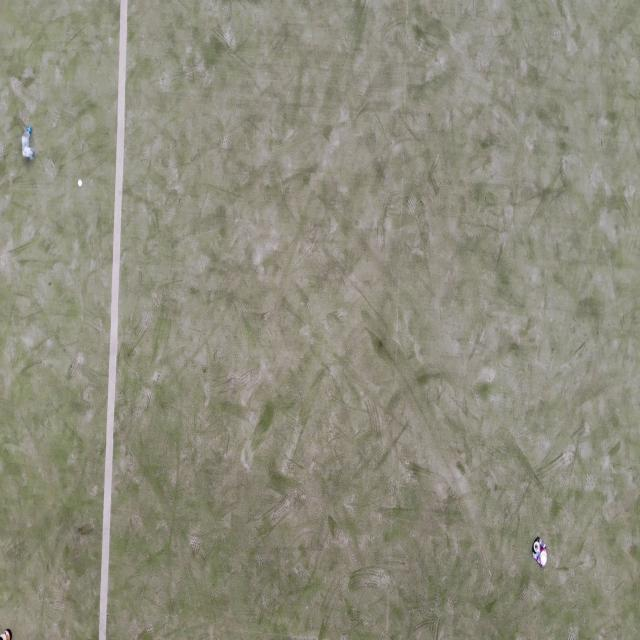rubbish: (532, 535, 548, 568), (20, 126, 32, 161), (0, 626, 14, 639), (78, 179, 82, 187)
